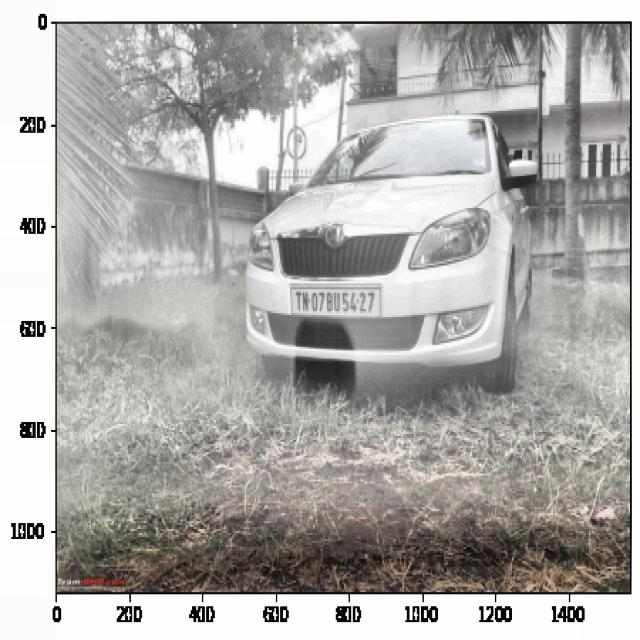license_plate: (289, 288, 377, 319)
